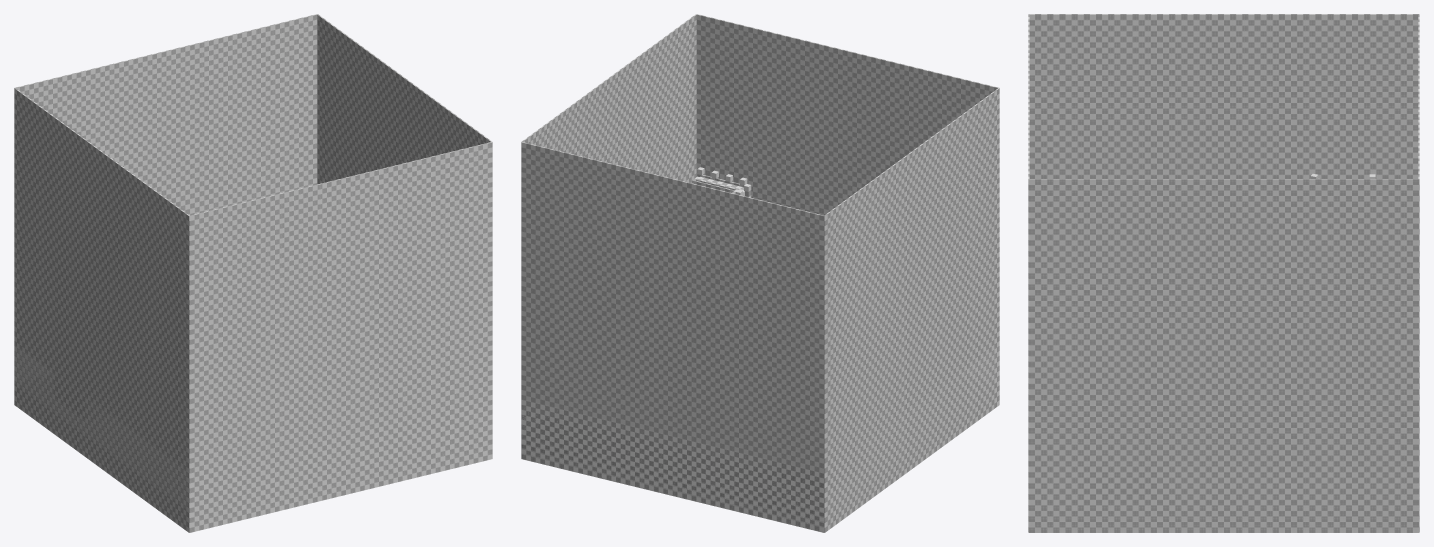
The model's file is Old-Towers.obj.
3 renders of one model, left to right at view 1: azimuth 30°, elevation 25°; view 2: azimuth 150°, elevation 25°; view 3: azimuth 270°, elevation 25°, orthographic. The views are drawn at different scales.
Parts seen in each view (by area): view 1: Border22, Border24, Border8, Border10, Border15, Border17, Border1, Border3; view 2: Border15, Border18, Border8, Border10, Border22, Border25, Border1, Border3, Baseplate5, Baseplate11, Baseplate25, Baseplate1 (+1 smaller); view 3: Border1, Border4, Border8, Border11, Border22, Border15.
Part boxes in pixels (<box>): Border22: <box>189,142,492,532</box>; Border24: <box>190,142,492,532</box>; Border8: <box>14,88,189,532</box>; Border10: <box>14,88,188,532</box>; Border15: <box>15,14,317,215</box>; Border17: <box>16,15,317,215</box>; Border1: <box>317,14,491,183</box>; Border3: <box>317,15,488,184</box>; Border15: <box>521,142,824,532</box>; Border18: <box>521,142,823,532</box>; Border8: <box>824,88,999,532</box>; Border10: <box>825,89,999,532</box>; Border22: <box>696,14,998,215</box>; Border25: <box>696,14,997,215</box>; Border1: <box>521,14,696,182</box>; Border3: <box>523,16,696,182</box>; Baseplate5: <box>521,438,823,531</box>; Baseplate11: <box>522,400,823,493</box>; Baseplate25: <box>521,420,823,512</box>; Baseplate1: <box>533,441,823,530</box>; Border1: <box>1029,179,1418,532</box>; Border4: <box>1029,179,1418,532</box>; Border8: <box>1029,14,1418,178</box>; Border11: <box>1029,14,1418,178</box>; Border22: <box>1028,14,1029,532</box>; Border15: <box>1418,14,1419,532</box>.
Bounding box in the file's own units: 257 × 257 × 257.
